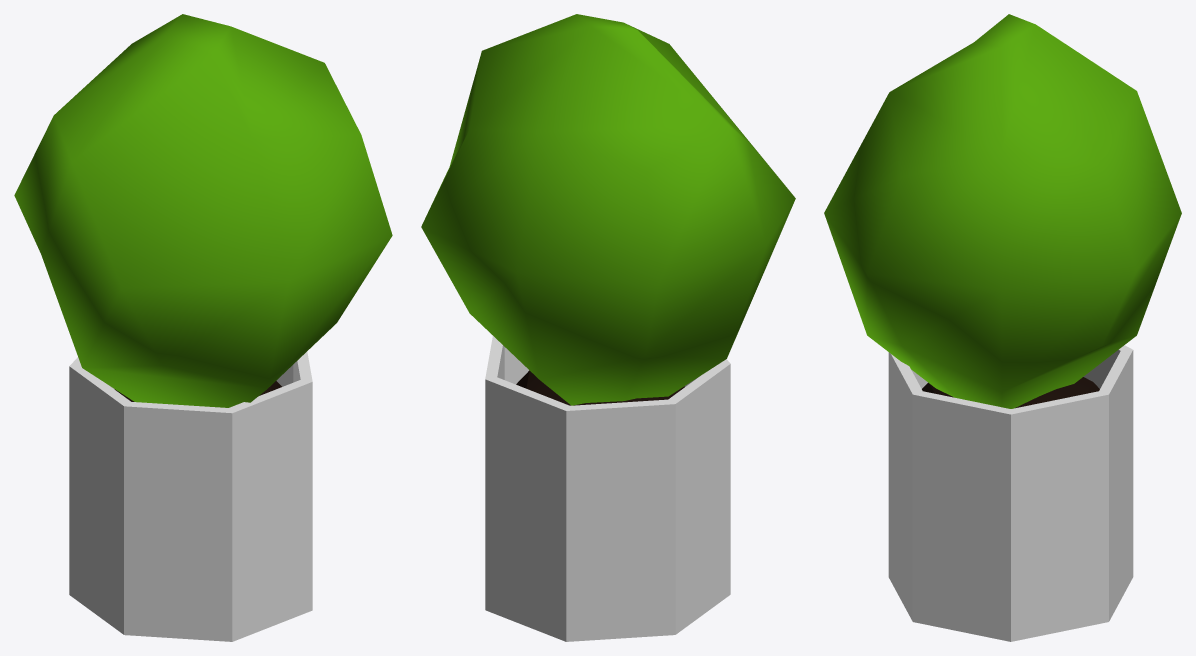
Rendered from Pot.fbx.
The picture shows the model from 3 angles, left to right: view 1: azimuth 30°, elevation 25°; view 2: azimuth 150°, elevation 25°; view 3: azimuth 270°, elevation 25°; orthographic projection.
Visible parts, largest first — view 1: Pot; view 2: Pot; view 3: Pot.
Boxes of the visible parts, x1,y1,x2,y2 form: Pot: (14, 14, 392, 641); Pot: (421, 14, 795, 641); Pot: (824, 14, 1181, 641).
Size of the model in its own units: 0.0503 by 0.0866 by 0.0498.
